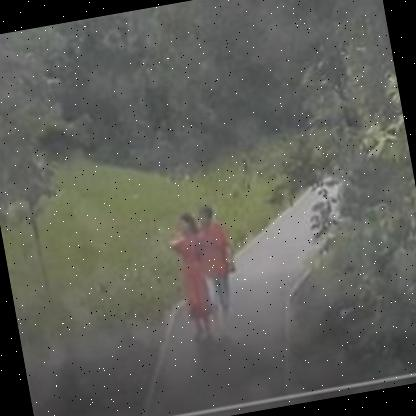person: (156, 207, 226, 358), (182, 197, 245, 322)
